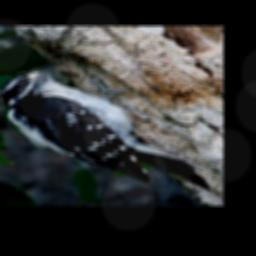Woodpecker: (0, 62, 215, 190)
